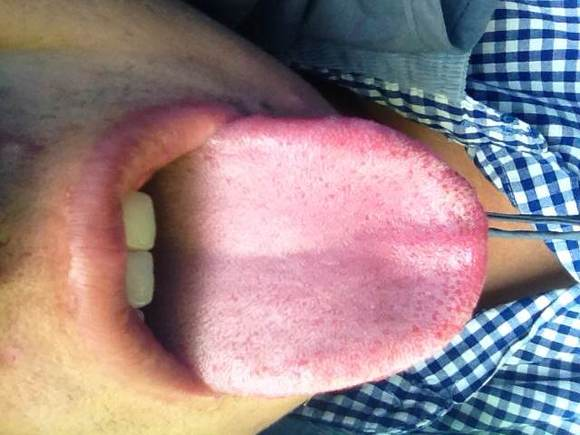baitaishe: (148, 113, 487, 398)
zishe: (148, 113, 487, 398)
